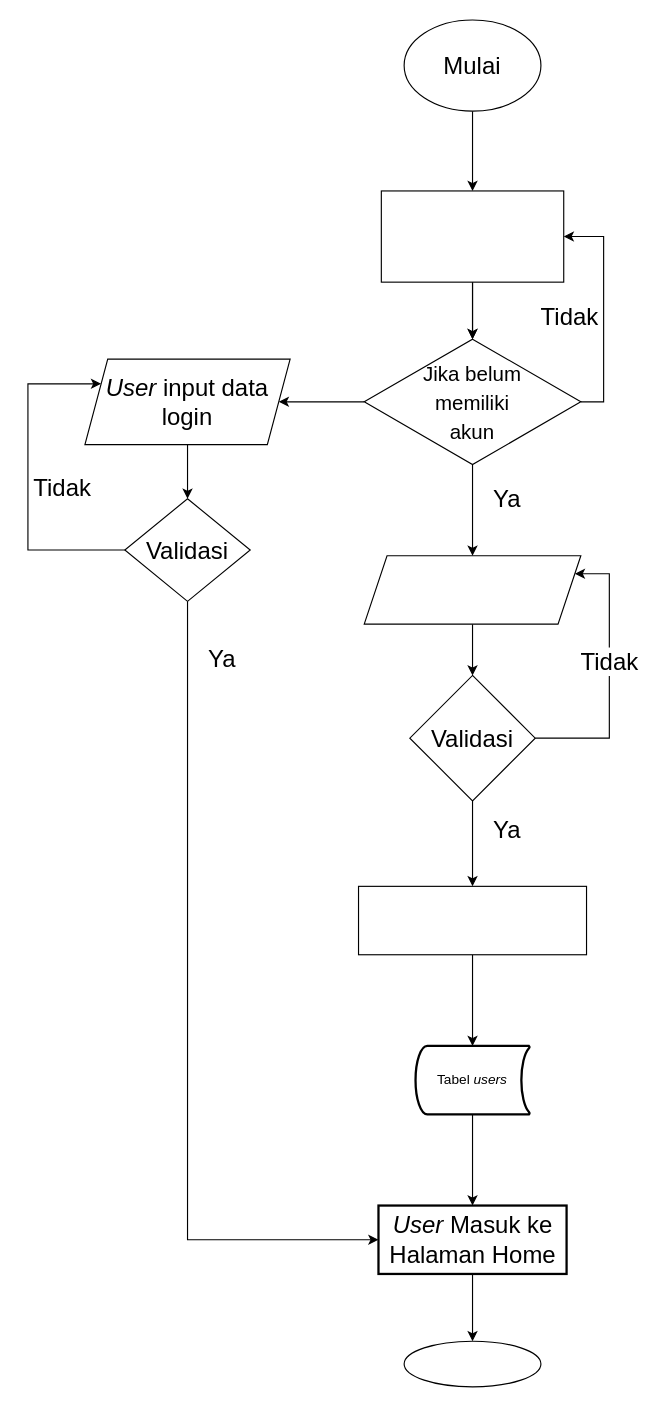
The diagram is 658 pixels wide and 1407 high, and some of its shapes have lost their labels. Each missing label, with the centre of its shape:
"data disimpan di database tabel users" belongs at (x=472, y=920).
"Selesai" belongs at (x=472, y=1363).
"User input data registrasi" belongs at (x=472, y=589).
"User Masuk ke Halaman Login" belongs at (x=472, y=236).
